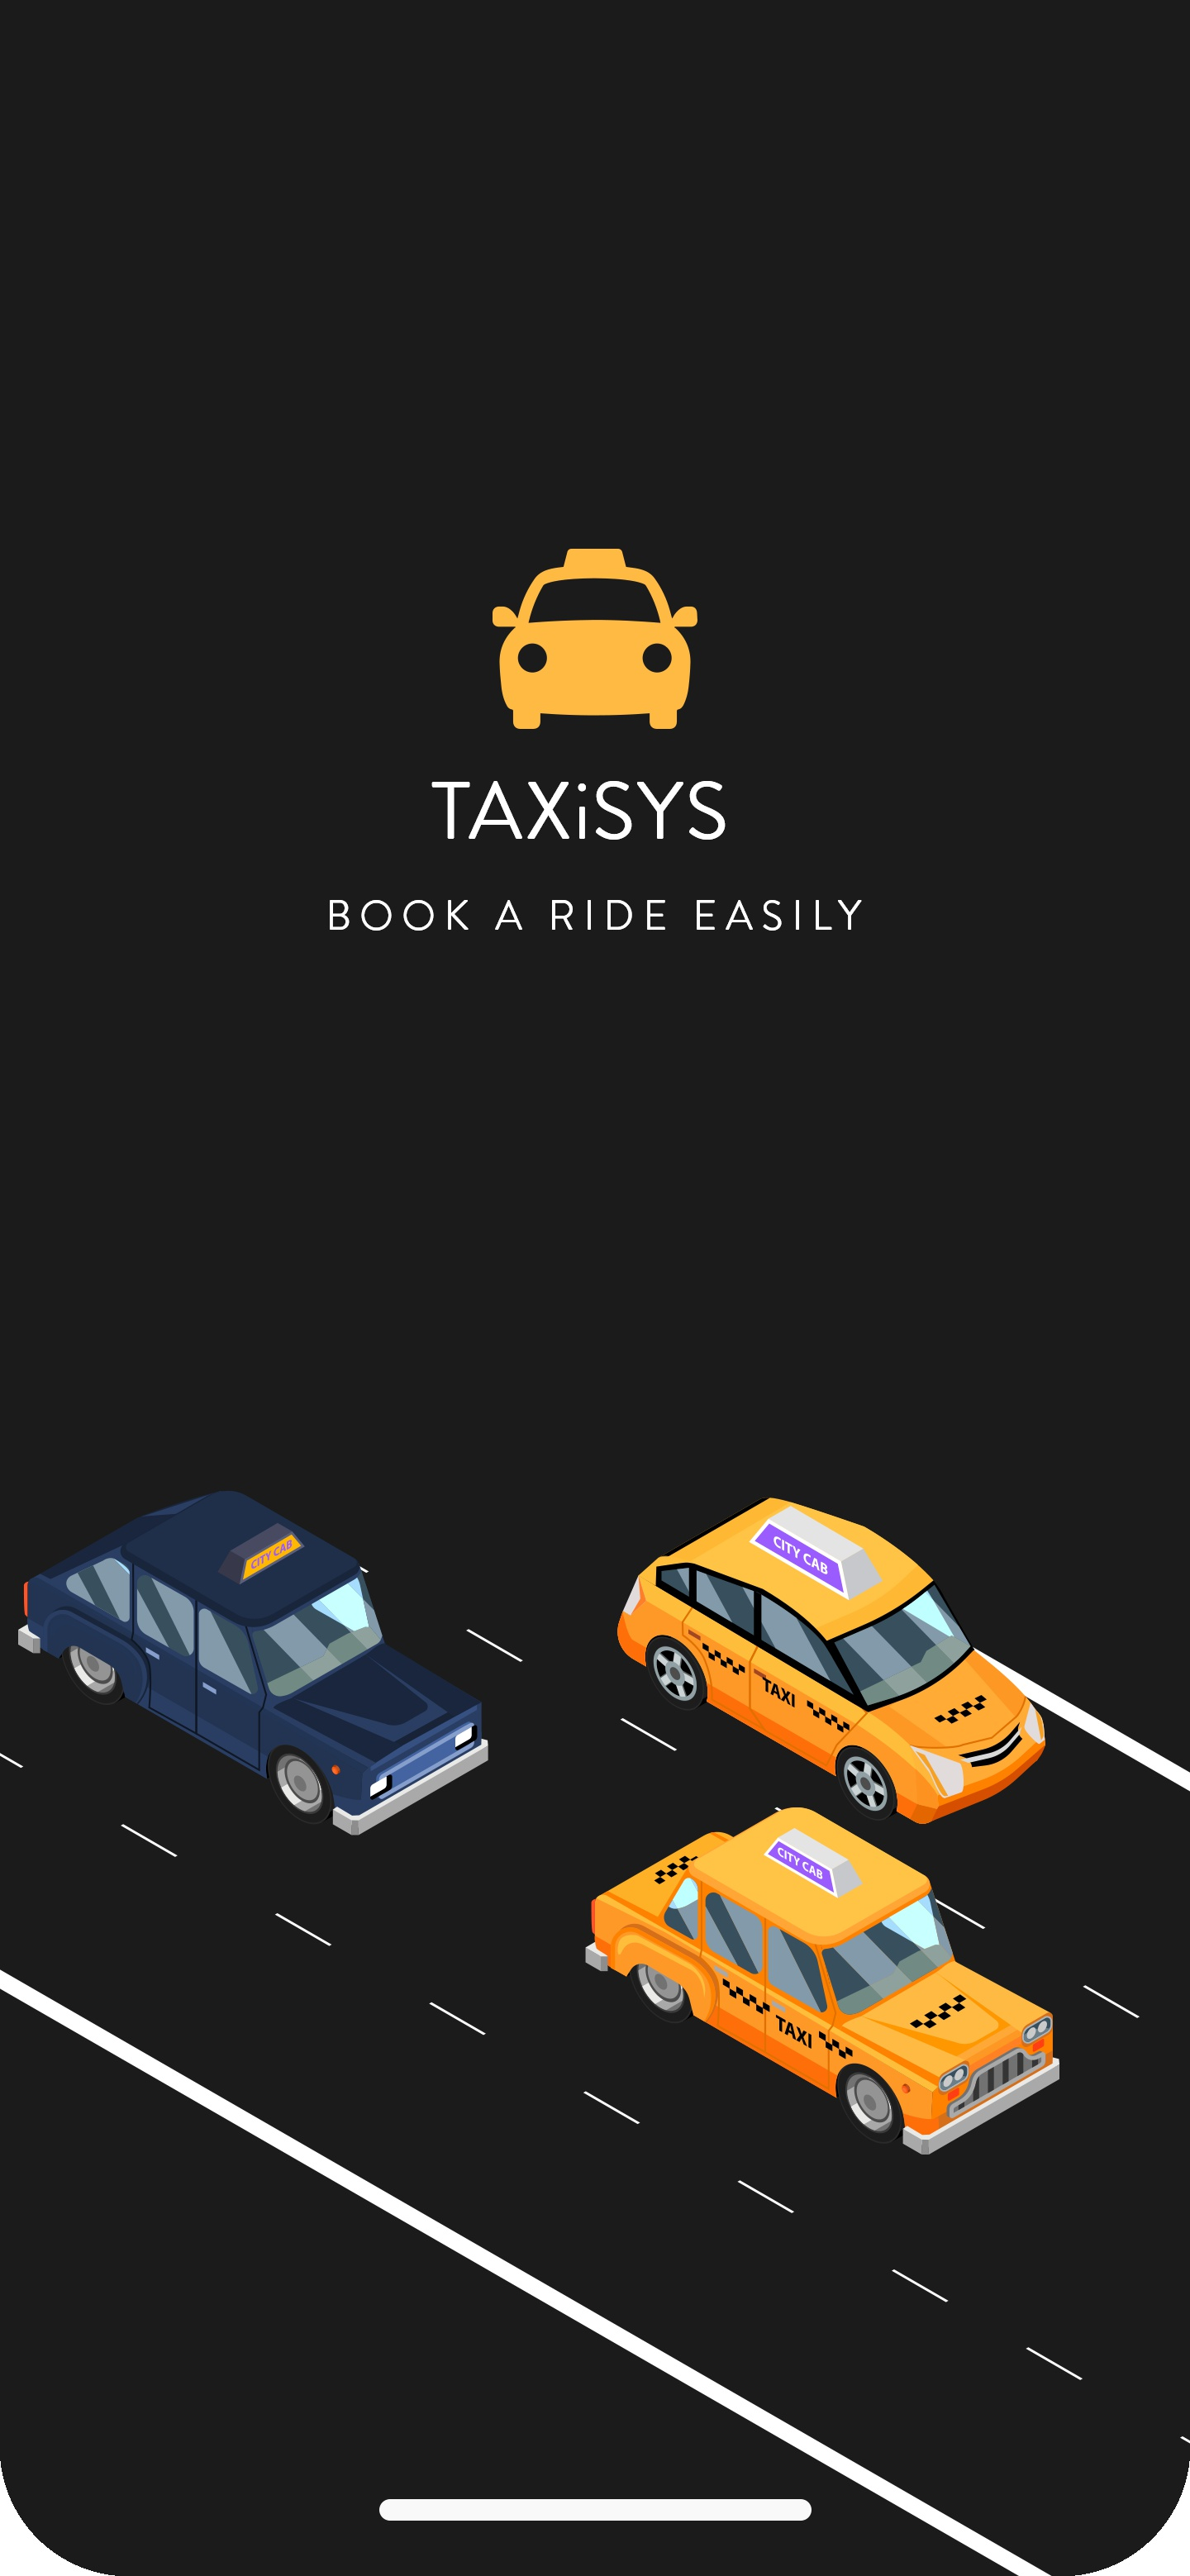BackgroundImage: (2, 5, 1190, 2576)
Image: (2, 1488, 1190, 2576), (491, 549, 699, 731)
Text: (431, 780, 726, 843), (329, 899, 863, 933)
